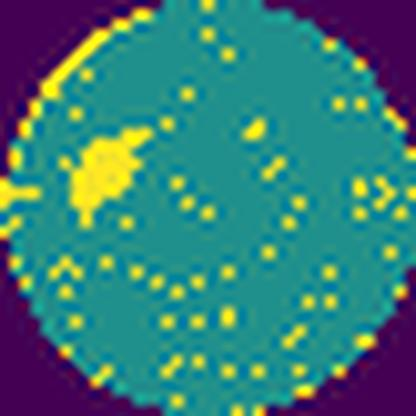Loc: (67, 124, 155, 232)
